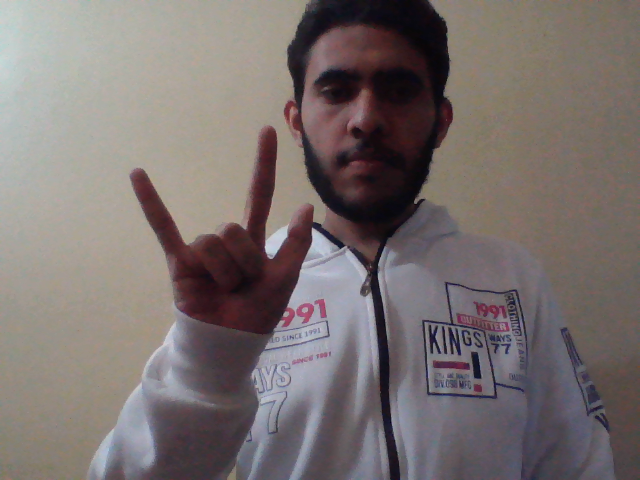iloveyou: (125, 123, 318, 344)
